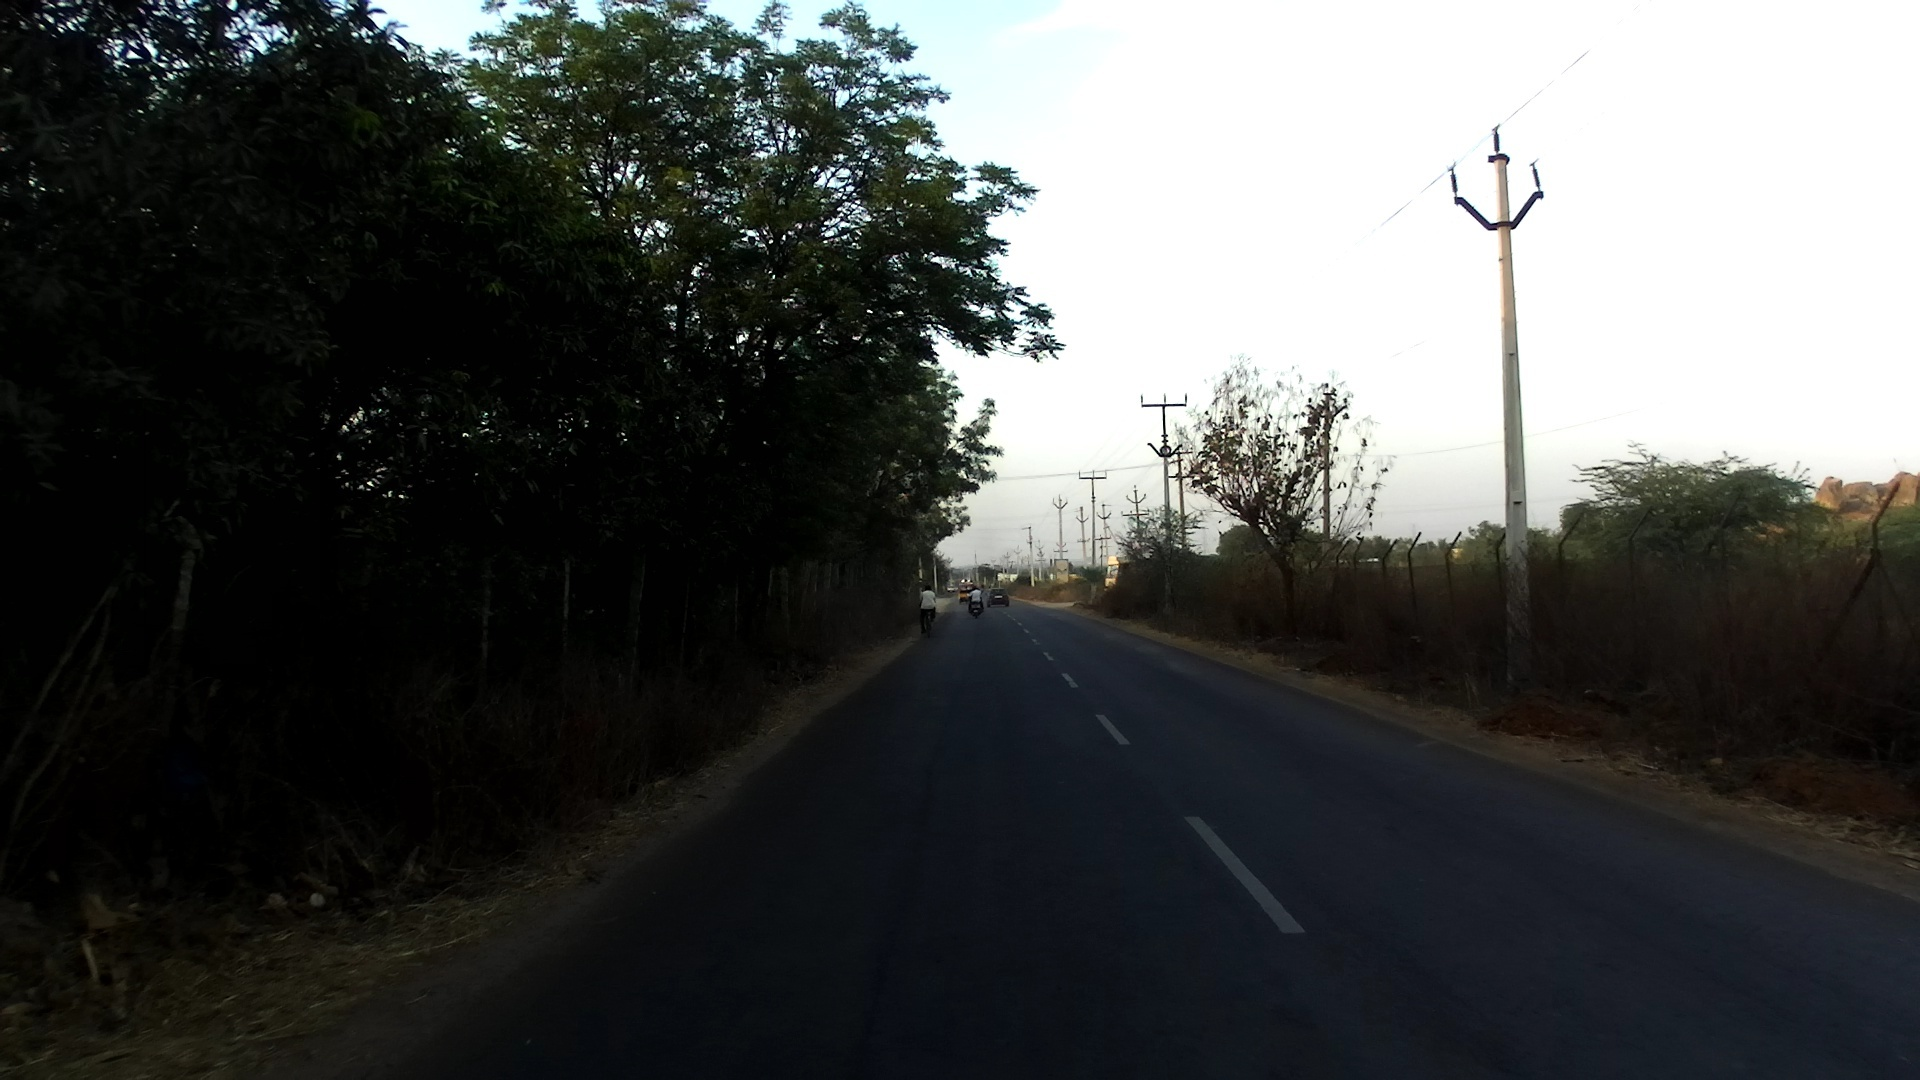autorickshaw: (959, 576, 975, 604)
car: (985, 589, 1011, 609), (944, 583, 957, 594)
motorcycle: (919, 601, 938, 638), (967, 593, 983, 620)
rider: (911, 583, 939, 636), (966, 583, 984, 616)
